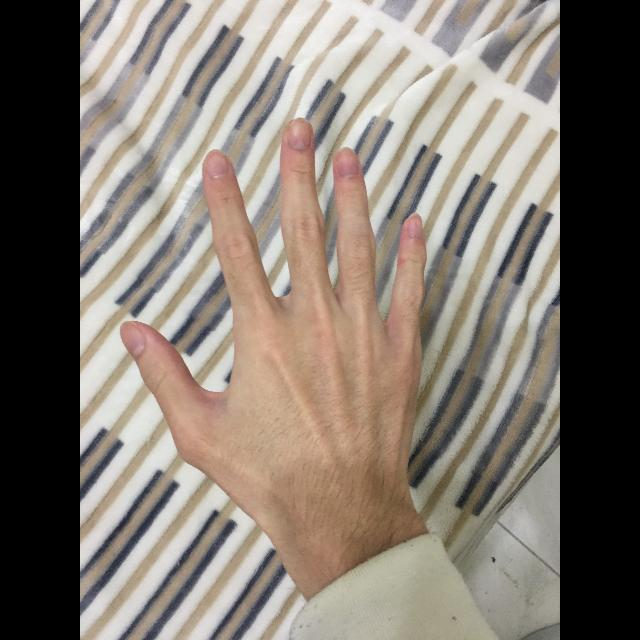bare_hand: (118, 118, 426, 505)
